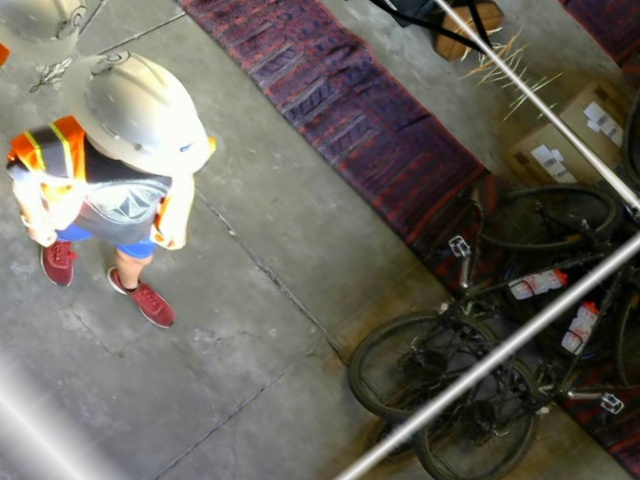eight: (86, 40, 135, 83)
